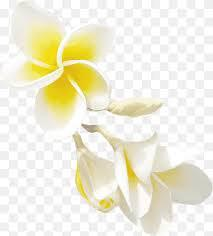jasmine: (3, 7, 111, 122), (83, 136, 207, 220)
